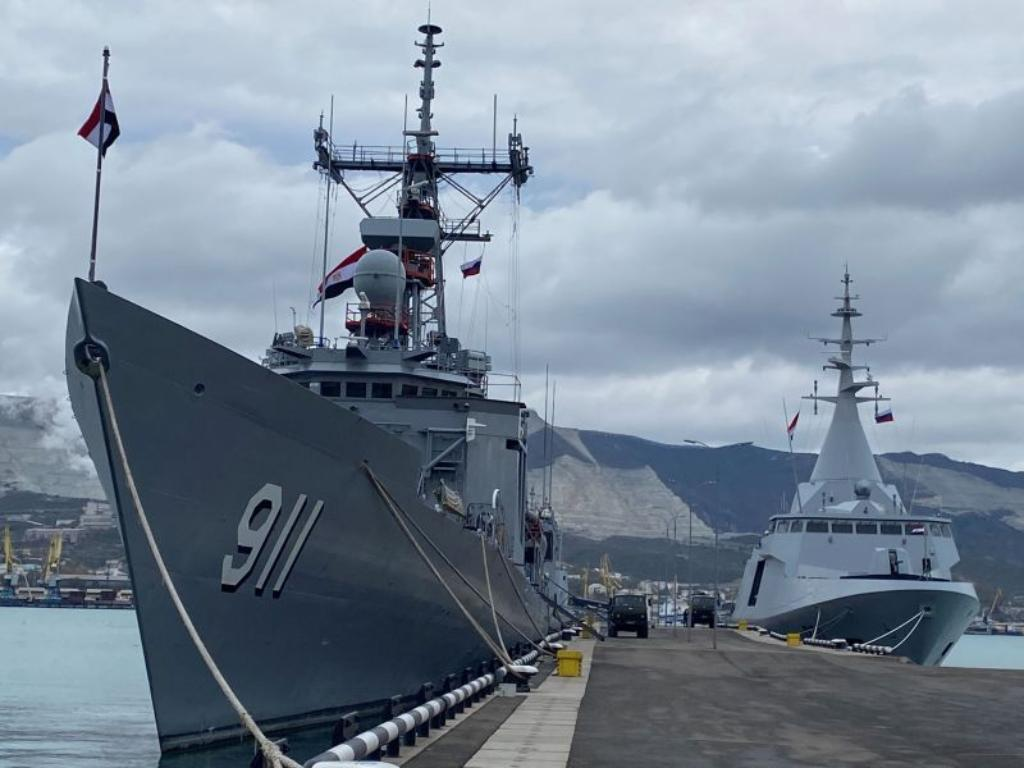Warship: (64, 0, 582, 758), (724, 264, 990, 670)
